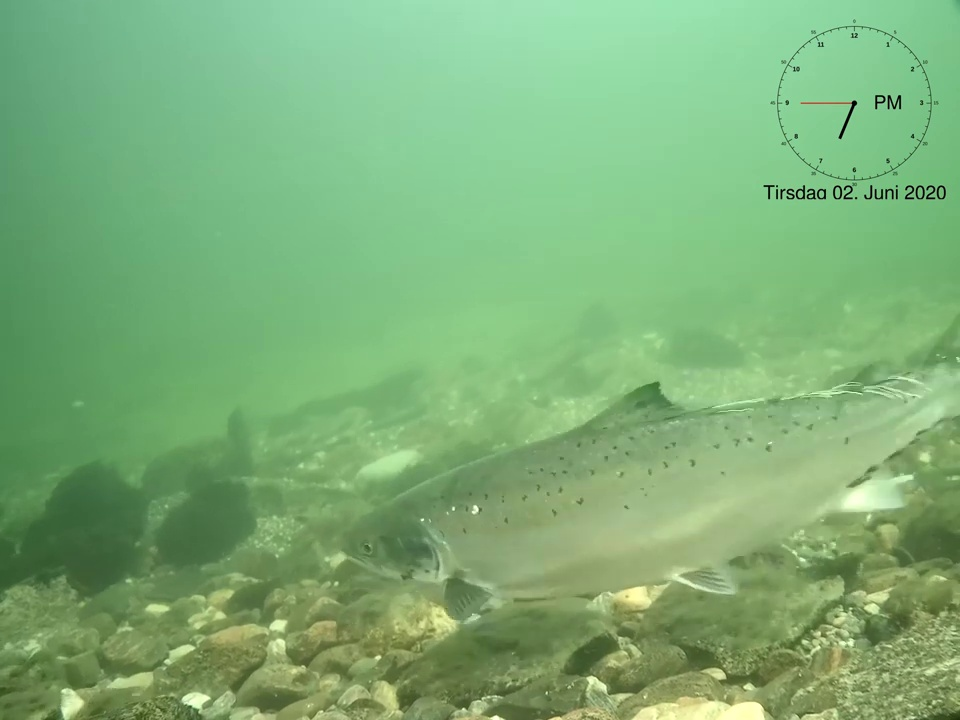salmon: (332, 346, 949, 624)
